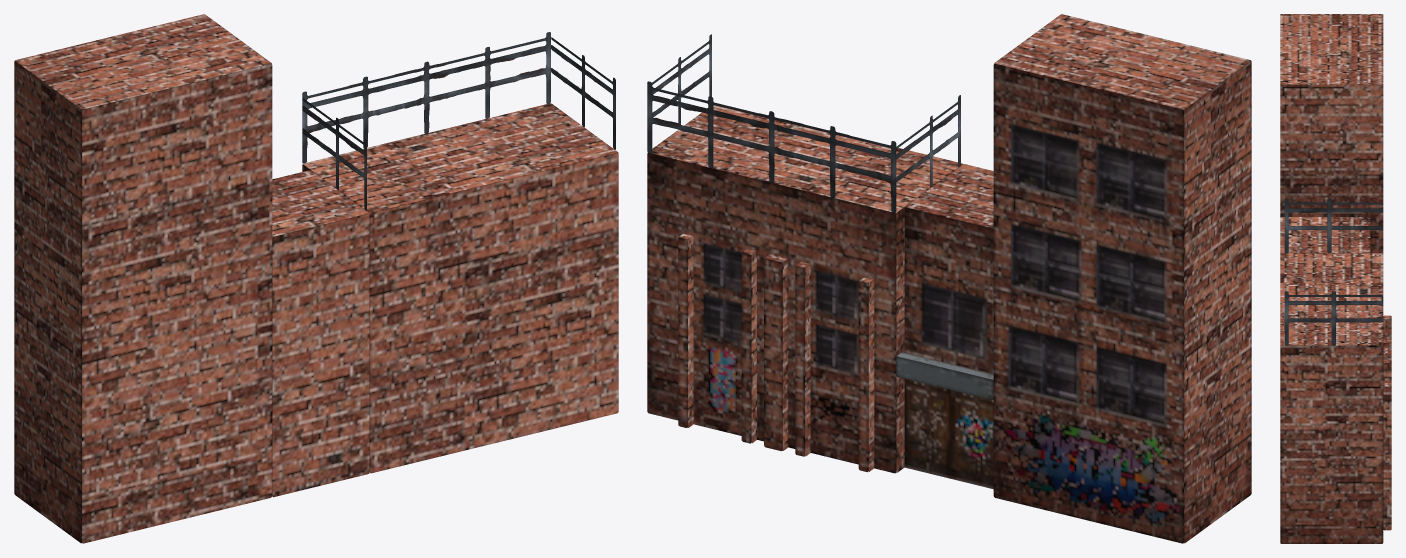
File: building.fbx
3 renders of one model, left to right at view 1: azimuth 30°, elevation 25°; view 2: azimuth 150°, elevation 25°; view 3: azimuth 270°, elevation 25°, orthographic. The views are drawn at different scales.
Visible parts, largest first — view 1: cube_2, cube, cube_1, cube_9, cube_10, cube_11; view 2: cube_2, cube, cube_1, cube_9, cube_7, cube_6, cube_3, cube_4, cube_5, cube_8, cube_10, cube_11; view 3: cube, cube_2, cube_1, cube_10, cube_11, cube_4, cube_6, cube_3.
Boxes of the visible parts, bbox=[...] form: cube_2: bbox=[14, 14, 272, 543]; cube: bbox=[302, 103, 618, 473]; cube_1: bbox=[272, 170, 369, 497]; cube_9: bbox=[302, 32, 550, 163]; cube_10: bbox=[302, 98, 366, 210]; cube_11: bbox=[551, 37, 615, 149]; cube_2: bbox=[993, 14, 1251, 543]; cube: bbox=[647, 105, 962, 473]; cube_1: bbox=[904, 164, 993, 489]; cube_9: bbox=[647, 81, 896, 212]; cube_7: bbox=[764, 254, 788, 451]; cube_6: bbox=[858, 277, 874, 472]; cube_3: bbox=[741, 248, 756, 443]; cube_4: bbox=[678, 233, 693, 427]; cube_5: bbox=[795, 262, 810, 456]; cube_8: bbox=[896, 352, 993, 400]; cube_10: bbox=[896, 95, 960, 187]; cube_11: bbox=[652, 34, 711, 124]; cube: bbox=[1280, 253, 1383, 543]; cube_2: bbox=[1280, 14, 1383, 253]; cube_1: bbox=[1280, 217, 1370, 253]; cube_10: bbox=[1284, 198, 1383, 253]; cube_11: bbox=[1284, 291, 1383, 345]; cube_4: bbox=[1383, 383, 1391, 530]; cube_6: bbox=[1383, 315, 1391, 339]; cube_3: bbox=[1383, 359, 1391, 382].
Size of the model in its own units: 688 by 531 by 162.
Materials: 1 (1 with a texture image).
